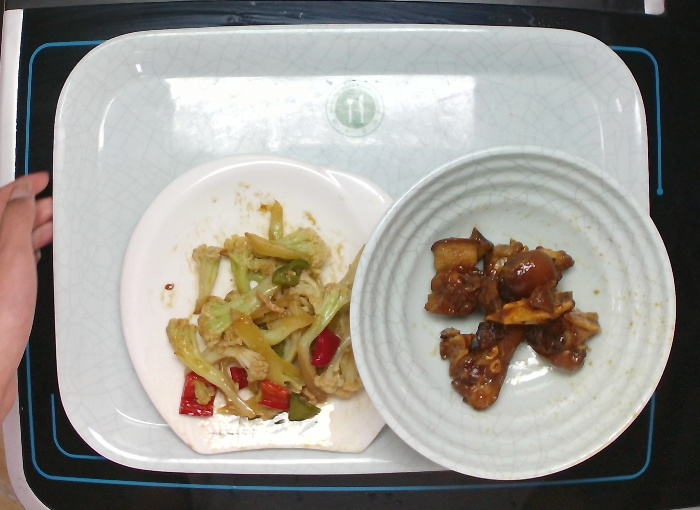JYsf-Da_Tang_Wan: (346, 139, 681, 484)
JYsf-Mian_Pan: (112, 149, 427, 460)
